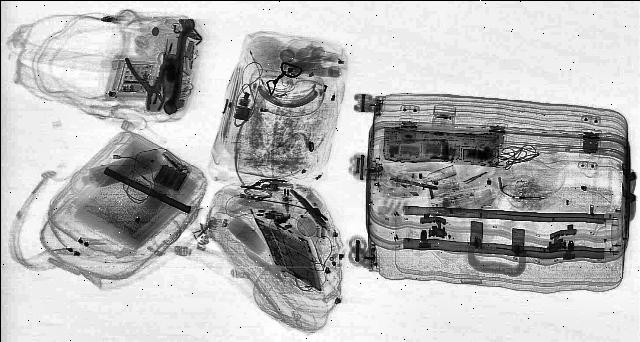Pliers: (121, 56, 181, 110)
Wrench: (160, 18, 196, 114)
